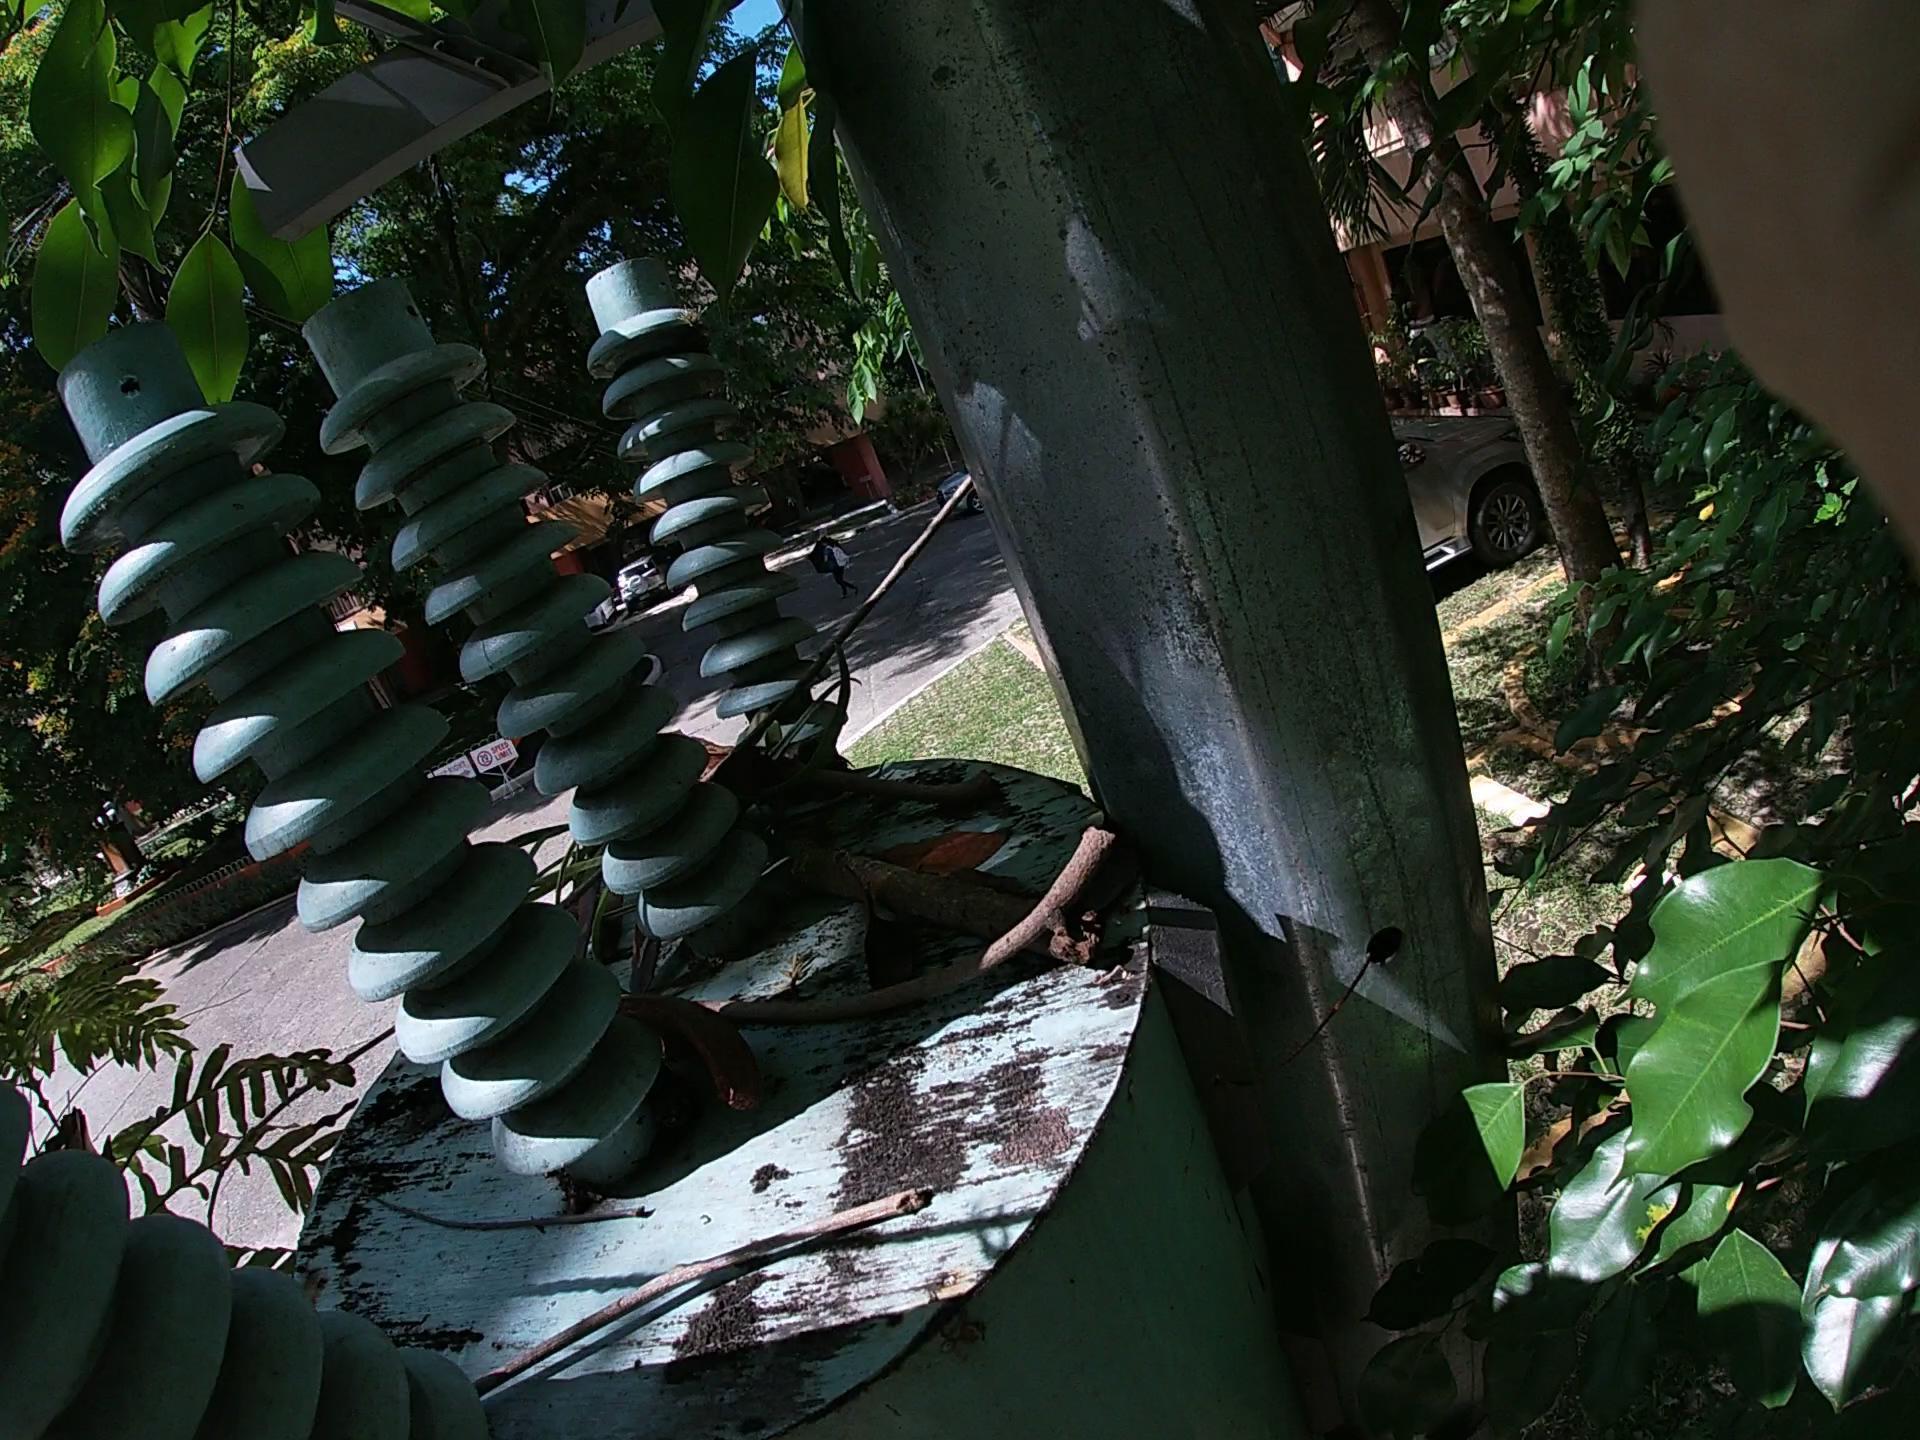branch with leaves: (579, 582, 862, 951)
leaf: (892, 787, 1085, 923)
mahogany fruit: (627, 954, 785, 1142), (664, 684, 816, 829)
tree branch: (314, 517, 1001, 1131), (308, 1038, 893, 1429), (739, 768, 1240, 1010)
